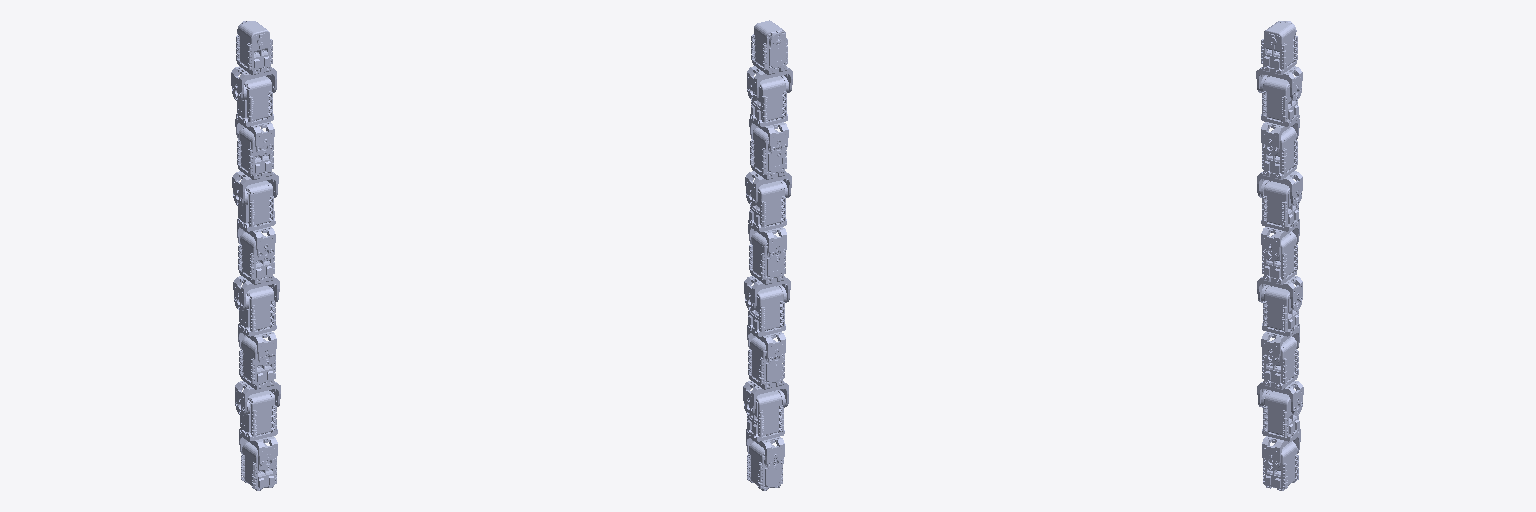
robot.urdf — test_urdf:
<?xml version="1.0" encoding="utf-8"?>
<!-- This URDF was automatically created by SolidWorks to URDF Exporter! Originally created by [author] ([email redacted]) 
     Commit Version: 1.5.1-0-g916b5db  Build Version: 1.5.7152.31018
     For more information, please see http://wiki.ros.org/sw_urdf_exporter -->
<robot
  name="test_urdf">

  <!--For base Foot Print-->
  
  <link name="world"/>
  
  <joint name="floating" type="floating">
    <parent link="world"/>
    <child link="base_link"/>
    <origin xyz="0.0 0.0 0.5" rpy="0 0 0"/>
  </joint>

  <link
    name="base_link">
    <inertial>
      <origin
        xyz="0.0018507 -0.0013143 -0.29442"
        rpy="0 0 0" />
      <mass
        value="0.56176" />
      <inertia
        ixx="0.016641"
        ixy="8.8434E-07"
        ixz="0.00012368"
        iyy="0.016639"
        iyz="-0.0001224"
        izz="9.3717E-05" />
    </inertial>
    <visual>
      <origin
        xyz="0 0 0"
        rpy="0 0 0" />
      <geometry>
        <mesh
          filename="package://snake_description/meshes/base_link.STL" />
      </geometry>
      <material
        name="">
        <color
          rgba="0.79216 0.81961 0.93333 1" />
      </material>
    </visual>
    <collision>
      <origin
        xyz="0 0 0"
        rpy="0 0 0" />
      <geometry>
        <mesh
          filename="package://snake_description/meshes/base_link.STL" />
      </geometry>
    </collision>
  </link>
  <link
    name="link1">
    <inertial>
      <origin
        xyz="0.0013143 -0.21542 -0.0018507"
        rpy="0 0 0" />
      <mass
        value="0.56176" />
      <inertia
        ixx="0.016639"
        ixy="0.0001224"
        ixz="8.8434E-07"
        iyy="9.3717E-05"
        iyz="-0.00012368"
        izz="0.016641" />
    </inertial>
    <visual>
      <origin
        xyz="0 0 0"
        rpy="0 0 0" />
      <geometry>
        <mesh
          filename="package://snake_description/meshes/link1.STL" />
      </geometry>
      <material
        name="">
        <color
          rgba="0.79216 0.81961 0.93333 1" />
      </material>
    </visual>
    <collision>
      <origin
        xyz="0 0 0"
        rpy="0 0 0" />
      <geometry>
        <mesh
          filename="package://snake_description/meshes/link1.STL" />
      </geometry>
    </collision>
  </link>
  <joint
    name="joint1"
    type="continuous">
    <origin
      xyz="0 0 -0.079"
      rpy="1.5708 0 -1.5708" />
    <parent
      link="base_link" />
    <child
      link="link1" />
    <axis
      xyz="0 0 1" />
  </joint>
  <link
    name="link2">
    <inertial>
      <origin
        xyz="-0.00085074 -0.14792 -0.0013143"
        rpy="0 0 0" />
      <mass
        value="0.56176" />
      <inertia
        ixx="0.016641"
        ixy="-0.00012368"
        ixz="-8.8434E-07"
        iyy="9.3717E-05"
        iyz="-0.0001224"
        izz="0.016639" />
    </inertial>
    <visual>
      <origin
        xyz="0 0 0"
        rpy="0 0 0" />
      <geometry>
        <mesh
          filename="package://snake_description/meshes/link2.STL" />
      </geometry>
      <material
        name="">
        <color
          rgba="0.79216 0.81961 0.93333 1" />
      </material>
    </visual>
    <collision>
      <origin
        xyz="0 0 0"
        rpy="0 0 0" />
      <geometry>
        <mesh
          filename="package://snake_description/meshes/link2.STL" />
      </geometry>
    </collision>
  </link>
  <joint
    name="joint2"
    type="continuous">
    <origin
      xyz="0 -0.0675 -0.001"
      rpy="0 -1.5708 0" />
    <parent
      link="link1" />
    <child
      link="link2" />
    <axis
      xyz="0 0 1" />
  </joint>
  <link
    name="link3">
    <inertial>
      <origin
        xyz="0.00031427 -0.080424 -0.00085074"
        rpy="0 0 0" />
      <mass
        value="0.56176" />
      <inertia
        ixx="0.016639"
        ixy="0.0001224"
        ixz="8.8434E-07"
        iyy="9.3717E-05"
        iyz="-0.00012368"
        izz="0.016641" />
    </inertial>
    <visual>
      <origin
        xyz="0 0 0"
        rpy="0 0 0" />
      <geometry>
        <mesh
          filename="package://snake_description/meshes/link3.STL" />
      </geometry>
      <material
        name="">
        <color
          rgba="0.79216 0.81961 0.93333 1" />
      </material>
    </visual>
    <collision>
      <origin
        xyz="0 0 0"
        rpy="0 0 0" />
      <geometry>
        <mesh
          filename="package://snake_description/meshes/link3.STL" />
      </geometry>
    </collision>
  </link>
  <joint
    name="joint3"
    type="continuous">
    <origin
      xyz="0 -0.0675 -0.001"
      rpy="0 1.5708 0" />
    <parent
      link="link2" />
    <child
      link="link3" />
    <axis
      xyz="0 0 1" />
  </joint>
  <link
    name="link4">
    <inertial>
      <origin
        xyz="0.00014926 -0.012924 -0.00031427"
        rpy="0 0 0" />
      <mass
        value="0.56176" />
      <inertia
        ixx="0.016641"
        ixy="-0.00012368"
        ixz="-8.8434E-07"
        iyy="9.3717E-05"
        iyz="-0.0001224"
        izz="0.016639" />
    </inertial>
    <visual>
      <origin
        xyz="0 0 0"
        rpy="0 0 0" />
      <geometry>
        <mesh
          filename="package://snake_description/meshes/link4.STL" />
      </geometry>
      <material
        name="">
        <color
          rgba="0.79216 0.81961 0.93333 1" />
      </material>
    </visual>
    <collision>
      <origin
        xyz="0 0 0"
        rpy="0 0 0" />
      <geometry>
        <mesh
          filename="package://snake_description/meshes/link4.STL" />
      </geometry>
    </collision>
  </link>
  <joint
    name="joint4"
    type="continuous">
    <origin
      xyz="0 -0.0675 -0.001"
      rpy="0 -1.5708 0" />
    <parent
      link="link3" />
    <child
      link="link4" />
    <axis
      xyz="0 0 1" />
  </joint>
  <link
    name="link5">
    <inertial>
      <origin
        xyz="-0.00068573 0.054576 0.00014926"
        rpy="0 0 0" />
      <mass
        value="0.56176" />
      <inertia
        ixx="0.016639"
        ixy="0.0001224"
        ixz="8.8434E-07"
        iyy="9.3717E-05"
        iyz="-0.00012368"
        izz="0.016641" />
    </inertial>
    <visual>
      <origin
        xyz="0 0 0"
        rpy="0 0 0" />
      <geometry>
        <mesh
          filename="package://snake_description/meshes/link5.STL" />
      </geometry>
      <material
        name="">
        <color
          rgba="0.79216 0.81961 0.93333 1" />
      </material>
    </visual>
    <collision>
      <origin
        xyz="0 0 0"
        rpy="0 0 0" />
      <geometry>
        <mesh
          filename="package://snake_description/meshes/link5.STL" />
      </geometry>
    </collision>
  </link>
  <joint
    name="joint5"
    type="continuous">
    <origin
      xyz="0 -0.0675 -0.001"
      rpy="0 1.5708 0" />
    <parent
      link="link4" />
    <child
      link="link5" />
    <axis
      xyz="0 0 1" />
  </joint>
  <link
    name="link6">
    <inertial>
      <origin
        xyz="0.0011493 0.12208 0.00068573"
        rpy="0 0 0" />
      <mass
        value="0.56176" />
      <inertia
        ixx="0.016641"
        ixy="-0.00012368"
        ixz="-8.8434E-07"
        iyy="9.3717E-05"
        iyz="-0.0001224"
        izz="0.016639" />
    </inertial>
    <visual>
      <origin
        xyz="0 0 0"
        rpy="0 0 0" />
      <geometry>
        <mesh
          filename="package://snake_description/meshes/link6.STL" />
      </geometry>
      <material
        name="">
        <color
          rgba="0.79216 0.81961 0.93333 1" />
      </material>
    </visual>
    <collision>
      <origin
        xyz="0 0 0"
        rpy="0 0 0" />
      <geometry>
        <mesh
          filename="package://snake_description/meshes/link6.STL" />
      </geometry>
    </collision>
  </link>
  <joint
    name="joint6"
    type="continuous">
    <origin
      xyz="0 -0.0675 -0.001"
      rpy="0 -1.5708 0" />
    <parent
      link="link5" />
    <child
      link="link6" />
    <axis
      xyz="0 0 1" />
  </joint>
  <link
    name="link7">
    <inertial>
      <origin
        xyz="-0.0016857 0.18958 0.0011493"
        rpy="0 0 0" />
      <mass
        value="0.56176" />
      <inertia
        ixx="0.016639"
        ixy="0.0001224"
        ixz="8.8434E-07"
        iyy="9.3717E-05"
        iyz="-0.00012368"
        izz="0.016641" />
    </inertial>
    <visual>
      <origin
        xyz="0 0 0"
        rpy="0 0 0" />
      <geometry>
        <mesh
          filename="package://snake_description/meshes/link7.STL" />
      </geometry>
      <material
        name="">
        <color
          rgba="0.79216 0.81961 0.93333 1" />
      </material>
    </visual>
    <collision>
      <origin
        xyz="0 0 0"
        rpy="0 0 0" />
      <geometry>
        <mesh
          filename="package://snake_description/meshes/link7.STL" />
      </geometry>
    </collision>
  </link>
  <joint
    name="joint7"
    type="continuous">
    <origin
      xyz="0 -0.0675 -0.001"
      rpy="0 1.5708 0" />
    <parent
      link="link6" />
    <child
      link="link7" />
    <axis
      xyz="0 0 1" />
  </joint>
  <link
    name="link8">
    <inertial>
      <origin
        xyz="0.0021493 0.25708 0.0016857"
        rpy="0 0 0" />
      <mass
        value="0.56176" />
      <inertia
        ixx="0.016641"
        ixy="-0.00012368"
        ixz="-8.8434E-07"
        iyy="9.3717E-05"
        iyz="-0.0001224"
        izz="0.016639" />
    </inertial>
    <visual>
      <origin
        xyz="0 0 0"
        rpy="0 0 0" />
      <geometry>
        <mesh
          filename="package://snake_description/meshes/link8.STL" />
      </geometry>
      <material
        name="">
        <color
          rgba="0.79216 0.81961 0.93333 1" />
      </material>
    </visual>
    <collision>
      <origin
        xyz="0 0 0"
        rpy="0 0 0" />
      <geometry>
        <mesh
          filename="package://snake_description/meshes/link8.STL" />
      </geometry>
    </collision>
  </link>
  <joint
    name="joint8"
    type="continuous">
    <origin
      xyz="0 -0.0675 -0.001"
      rpy="0 -1.5708 0" />
    <parent
      link="link7" />
    <child
      link="link8" />
    <axis
      xyz="0 0 1" />
  </joint>

  <!--Gazebo property-->
  <gazebo reference="base_link">
    <selfCollide>true</selfCollide>
  </gazebo>

  <gazebo reference="link1">
    <selfCollide>true</selfCollide>
  </gazebo>

  <gazebo reference="link2">
    <selfCollide>true</selfCollide>
  </gazebo>

  <gazebo reference="link3">
    <selfCollide>true</selfCollide>
  </gazebo>

  <gazebo reference="link4">
    <selfCollide>true</selfCollide>
  </gazebo>

  <gazebo reference="link5">
    <selfCollide>true</selfCollide>
  </gazebo>

  <gazebo reference="link6">
    <selfCollide>true</selfCollide>
  </gazebo>

  <gazebo reference="link7">
    <selfCollide>true</selfCollide>
  </gazebo>

  <gazebo reference="link8">
    <selfCollide>true</selfCollide>
  </gazebo>

  <transmission name="tran1">
    <type>transmission_interface/SimpleTransmission</type>
    <joint name="joint1">
      <hardwareInterface>hardware_interface/EffortJointInterface</hardwareInterface>
    </joint>
    <actuator name="motor1">
      <hardwareInterface>hardware_interface/EffortJointInterface</hardwareInterface>
      <mechanicalReduction>1</mechanicalReduction>
    </actuator>
  </transmission>

  <transmission name="tran2">
    <type>transmission_interface/SimpleTransmission</type>
    <joint name="joint2">
      <hardwareInterface>hardware_interface/EffortJointInterface</hardwareInterface>
    </joint>
    <actuator name="motor2">
      <hardwareInterface>hardware_interface/EffortJointInterface</hardwareInterface>
      <mechanicalReduction>1</mechanicalReduction>
    </actuator>
  </transmission>

  <transmission name="tran3">
    <type>transmission_interface/SimpleTransmission</type>
    <joint name="joint3">
      <hardwareInterface>hardware_interface/EffortJointInterface</hardwareInterface>
    </joint>
    <actuator name="motor3">
      <hardwareInterface>hardware_interface/EffortJointInterface</hardwareInterface>
      <mechanicalReduction>1</mechanicalReduction>
    </actuator>
  </transmission>

  <transmission name="tran4">
    <type>transmission_interface/SimpleTransmission</type>
    <joint name="joint4">
      <hardwareInterface>hardware_interface/EffortJointInterface</hardwareInterface>
    </joint>
    <actuator name="motor4">
      <hardwareInterface>hardware_interface/EffortJointInterface</hardwareInterface>
      <mechanicalReduction>1</mechanicalReduction>
    </actuator>
  </transmission>

  <transmission name="tran5">
    <type>transmission_interface/SimpleTransmission</type>
    <joint name="joint5">
      <hardwareInterface>hardware_interface/EffortJointInterface</hardwareInterface>
    </joint>
    <actuator name="motor5">
      <hardwareInterface>hardware_interface/EffortJointInterface</hardwareInterface>
      <mechanicalReduction>1</mechanicalReduction>
    </actuator>
  </transmission>

  <transmission name="tran6">
    <type>transmission_interface/SimpleTransmission</type>
    <joint name="joint6">
      <hardwareInterface>hardware_interface/EffortJointInterface</hardwareInterface>
    </joint>
    <actuator name="motor6">
      <hardwareInterface>hardware_interface/EffortJointInterface</hardwareInterface>
      <mechanicalReduction>1</mechanicalReduction>
    </actuator>
  </transmission>

  <transmission name="tran7">
    <type>transmission_interface/SimpleTransmission</type>
    <joint name="joint7">
      <hardwareInterface>hardware_interface/EffortJointInterface</hardwareInterface>
    </joint>
    <actuator name="motor7">
      <hardwareInterface>hardware_interface/EffortJointInterface</hardwareInterface>
      <mechanicalReduction>1</mechanicalReduction>
    </actuator>
  </transmission>

  <transmission name="tran8">
    <type>transmission_interface/SimpleTransmission</type>
    <joint name="joint8">
      <hardwareInterface>hardware_interface/EffortJointInterface</hardwareInterface>
    </joint>
    <actuator name="motor8">
      <hardwareInterface>hardware_interface/EffortJointInterface</hardwareInterface>
      <mechanicalReduction>1</mechanicalReduction>
    </actuator>
  </transmission>

</robot>

--- Render facts (derived) ---
3 views of the same robot in one strip: view 1: azimuth 30°, elevation 25°; view 2: azimuth 210°, elevation 25°; view 3: azimuth 330°, elevation 25° (orthographic).
Robot: test_urdf — 10 links, 9 joints (8 continuous, 1 floating); root link world; default pose: every joint at zero.
Visible links, largest first — view 1: base_link, link5, link7, link3, link1, link2, link4, link6, link8; view 2: base_link, link7, link5, link1, link3, link4, link2, link6, link8; view 3: base_link, link3, link7, link1, link5, link6, link2, link4, link8.
Boxes of the visible links, box(x1,y1,x2,y2) form: base_link: box(231, 21, 276, 101); link5: box(238, 286, 276, 365); link7: box(239, 390, 277, 470); link3: box(237, 181, 275, 260); link1: box(235, 76, 274, 155); link2: box(232, 127, 278, 205); link4: box(233, 232, 279, 310); link6: box(235, 336, 280, 415); link8: box(241, 441, 276, 490); base_link: box(747, 20, 792, 101); link7: box(746, 390, 785, 470); link5: box(747, 285, 786, 366); link1: box(749, 75, 788, 156); link3: box(748, 180, 787, 261); link4: box(744, 232, 790, 310); link2: box(745, 128, 791, 205); link6: box(743, 337, 788, 415); link8: box(747, 442, 782, 490); base_link: box(1256, 21, 1302, 100); link3: box(1260, 180, 1299, 260); link7: box(1261, 390, 1300, 470); link1: box(1260, 75, 1299, 155); link5: box(1261, 285, 1299, 365); link6: box(1257, 336, 1303, 415); link2: box(1257, 127, 1302, 205); link4: box(1257, 231, 1302, 310); link8: box(1263, 441, 1298, 490).
Size in the robot's own frame: 0.0518 by 0.0518 by 0.59 metres.
Meshes: 9 distinct files referenced, 9 mesh visuals loaded (9 binary STL).
